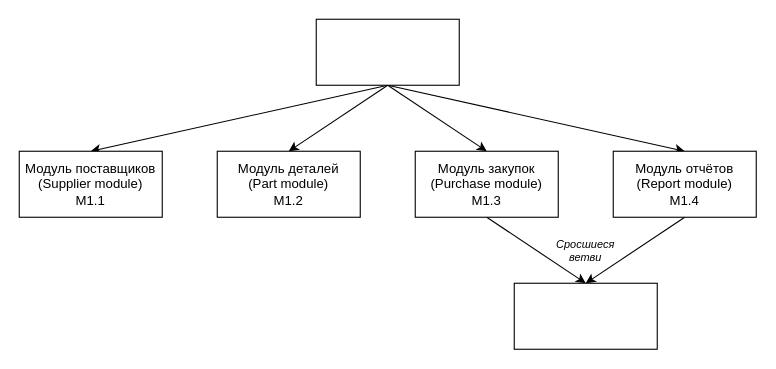
This 776x369 diagram has some shape labels left out. Each missing label, with the centre of its shape:
Головной модуль (Main module) M1: the point at 387,51
Модуль учёта цен (Price module) M1.3.1: the point at 585,315
